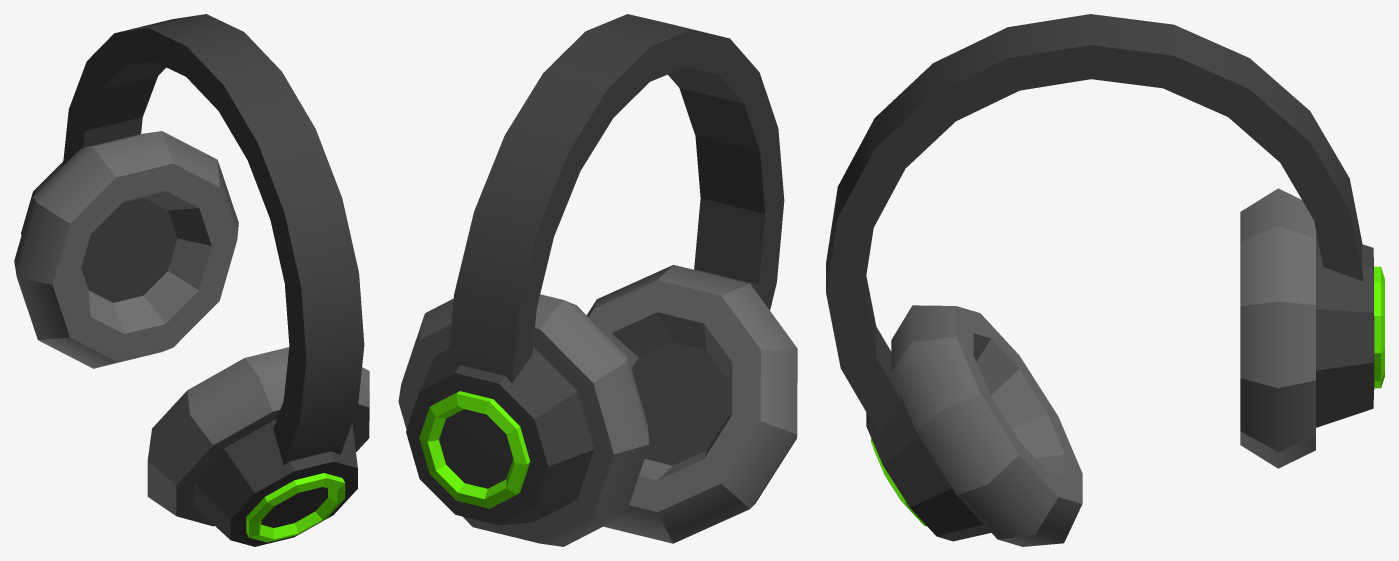
Rendered from SM_Headphones.fbx.
3 views of the same model, side by side, from view 1: azimuth 30°, elevation 25°; view 2: azimuth 150°, elevation 25°; view 3: azimuth 270°, elevation 25° (orthographic). The views are drawn at different scales.
Visible parts, largest first — view 1: polySurface2; view 2: polySurface2; view 3: polySurface2.
Boxes of the visible parts, x1=… form: polySurface2: x1=14, y1=14, x2=369, y2=546; polySurface2: x1=398, y1=14, x2=797, y2=546; polySurface2: x1=826, y1=14, x2=1384, y2=546.
Bounding box in the file's own units: 11 × 5.58 × 10.93.
